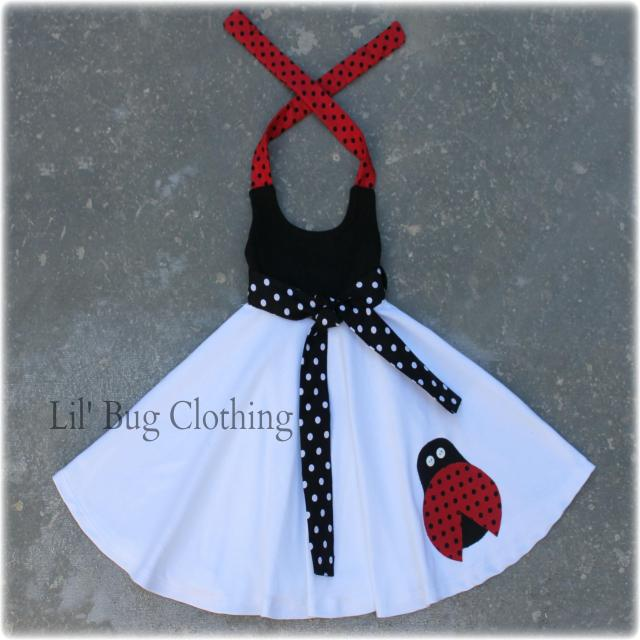Dress: (51, 24, 600, 625)
